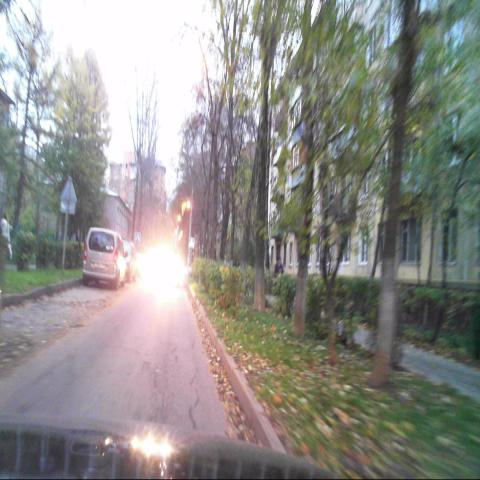5_19_1: (189, 236, 194, 248)
